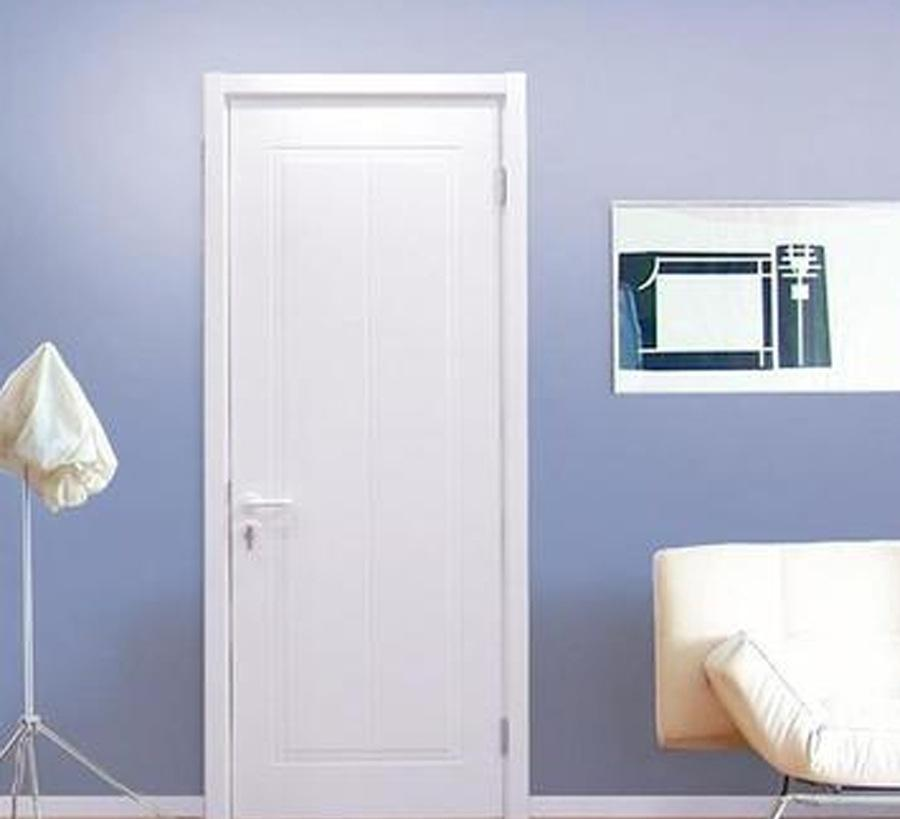door: (232, 100, 503, 813)
